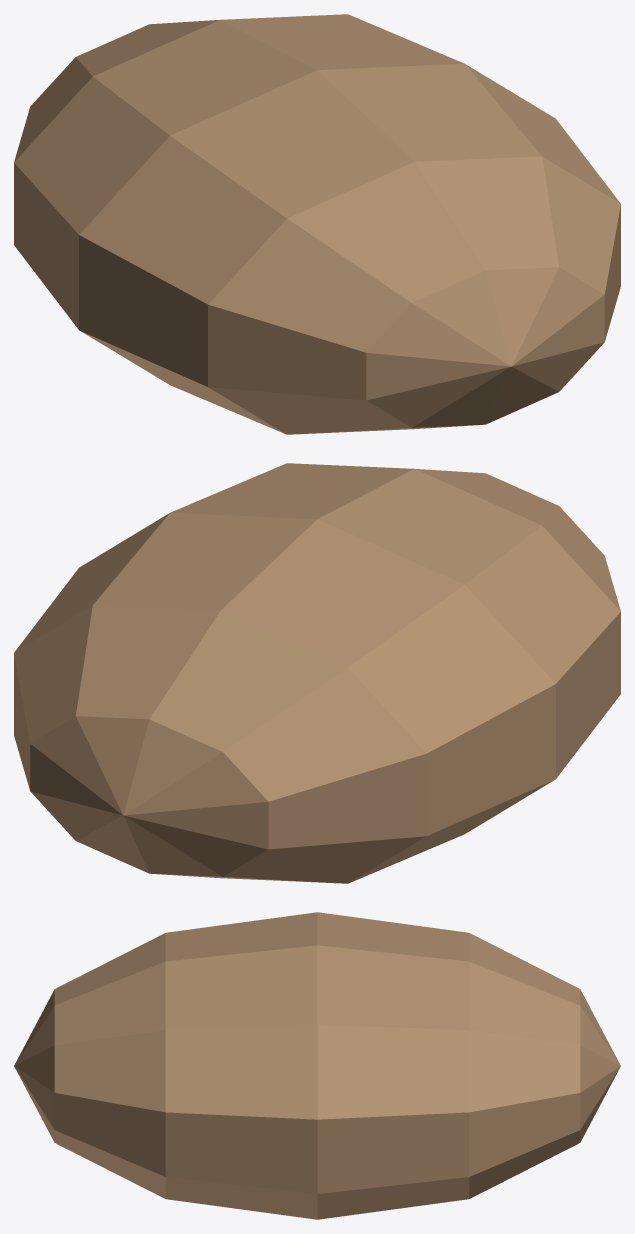
File: fruit16.fbx
3 renders of one model, top to bottom at view 1: azimuth 30°, elevation 25°; view 2: azimuth 150°, elevation 25°; view 3: azimuth 270°, elevation 25°, orthographic. The views are drawn at different scales.
Parts seen in each view (by area): view 1: Sphere.001; view 2: Sphere.001; view 3: Sphere.001.
Boxes of the visible parts, x1=… form: Sphere.001: x1=14, y1=14, x2=620, y2=434; Sphere.001: x1=14, y1=463, x2=620, y2=883; Sphere.001: x1=14, y1=912, x2=620, y2=1219.
Size of the model in its own units: 0.1074 by 0.0664 by 0.1515.
